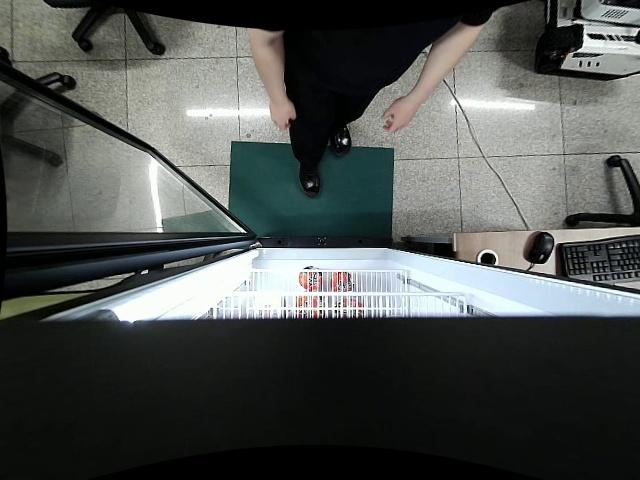00_hand: (383, 97, 417, 134), (269, 97, 296, 133)
